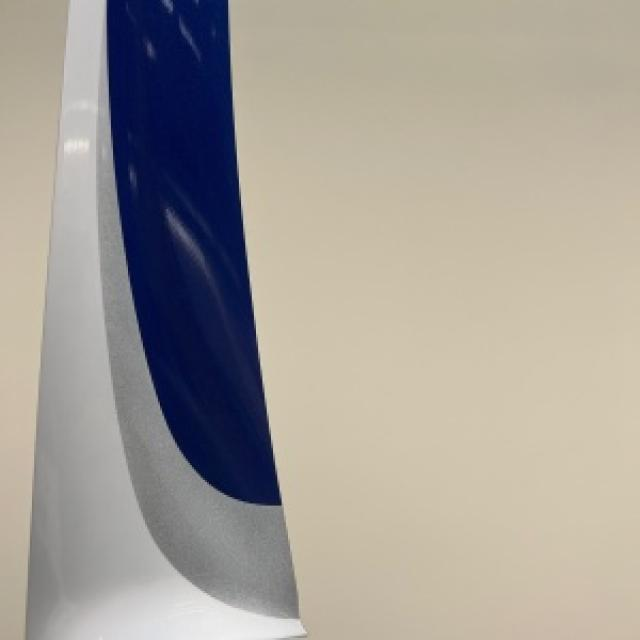healthy: (26, 0, 301, 638)
